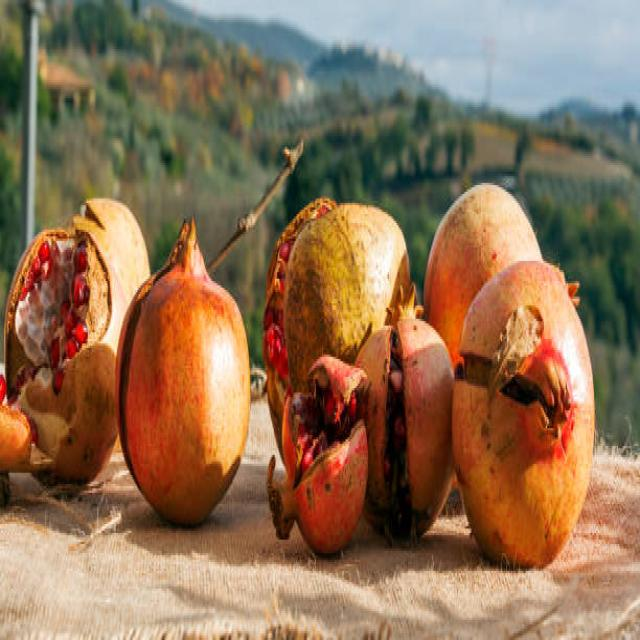overripe: (451, 258, 597, 569), (119, 227, 252, 528), (4, 216, 117, 488), (368, 301, 451, 548), (274, 350, 370, 560)
